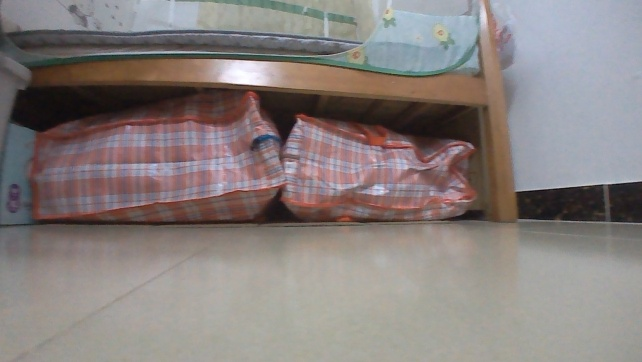bed1: (0, 0, 524, 224)
